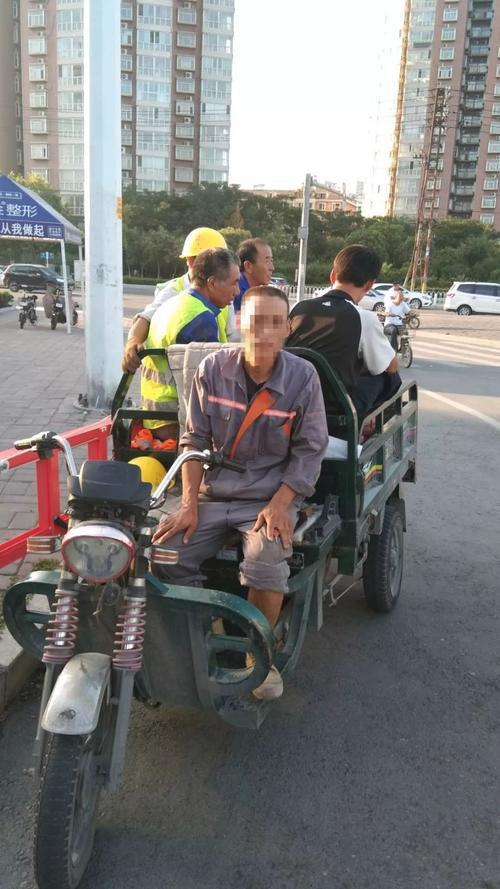driver: (198, 288, 313, 666)
overloading: (36, 206, 421, 888)
passenger: (315, 247, 395, 450), (178, 275, 245, 353), (170, 228, 239, 268), (241, 243, 296, 293)
